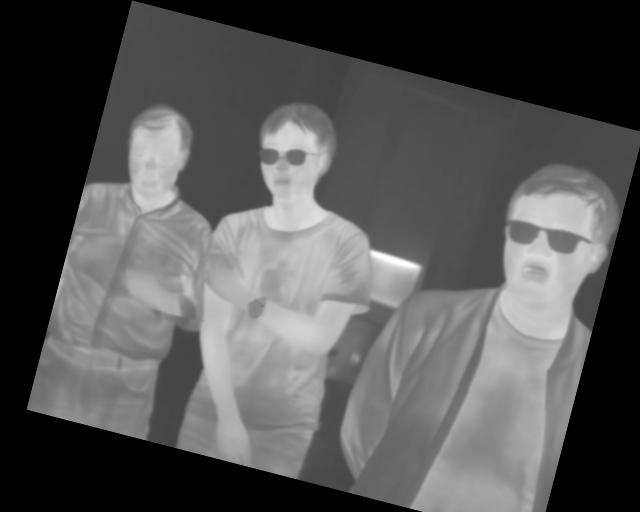face: (483, 151, 628, 323), (242, 90, 345, 207), (113, 97, 200, 206)
